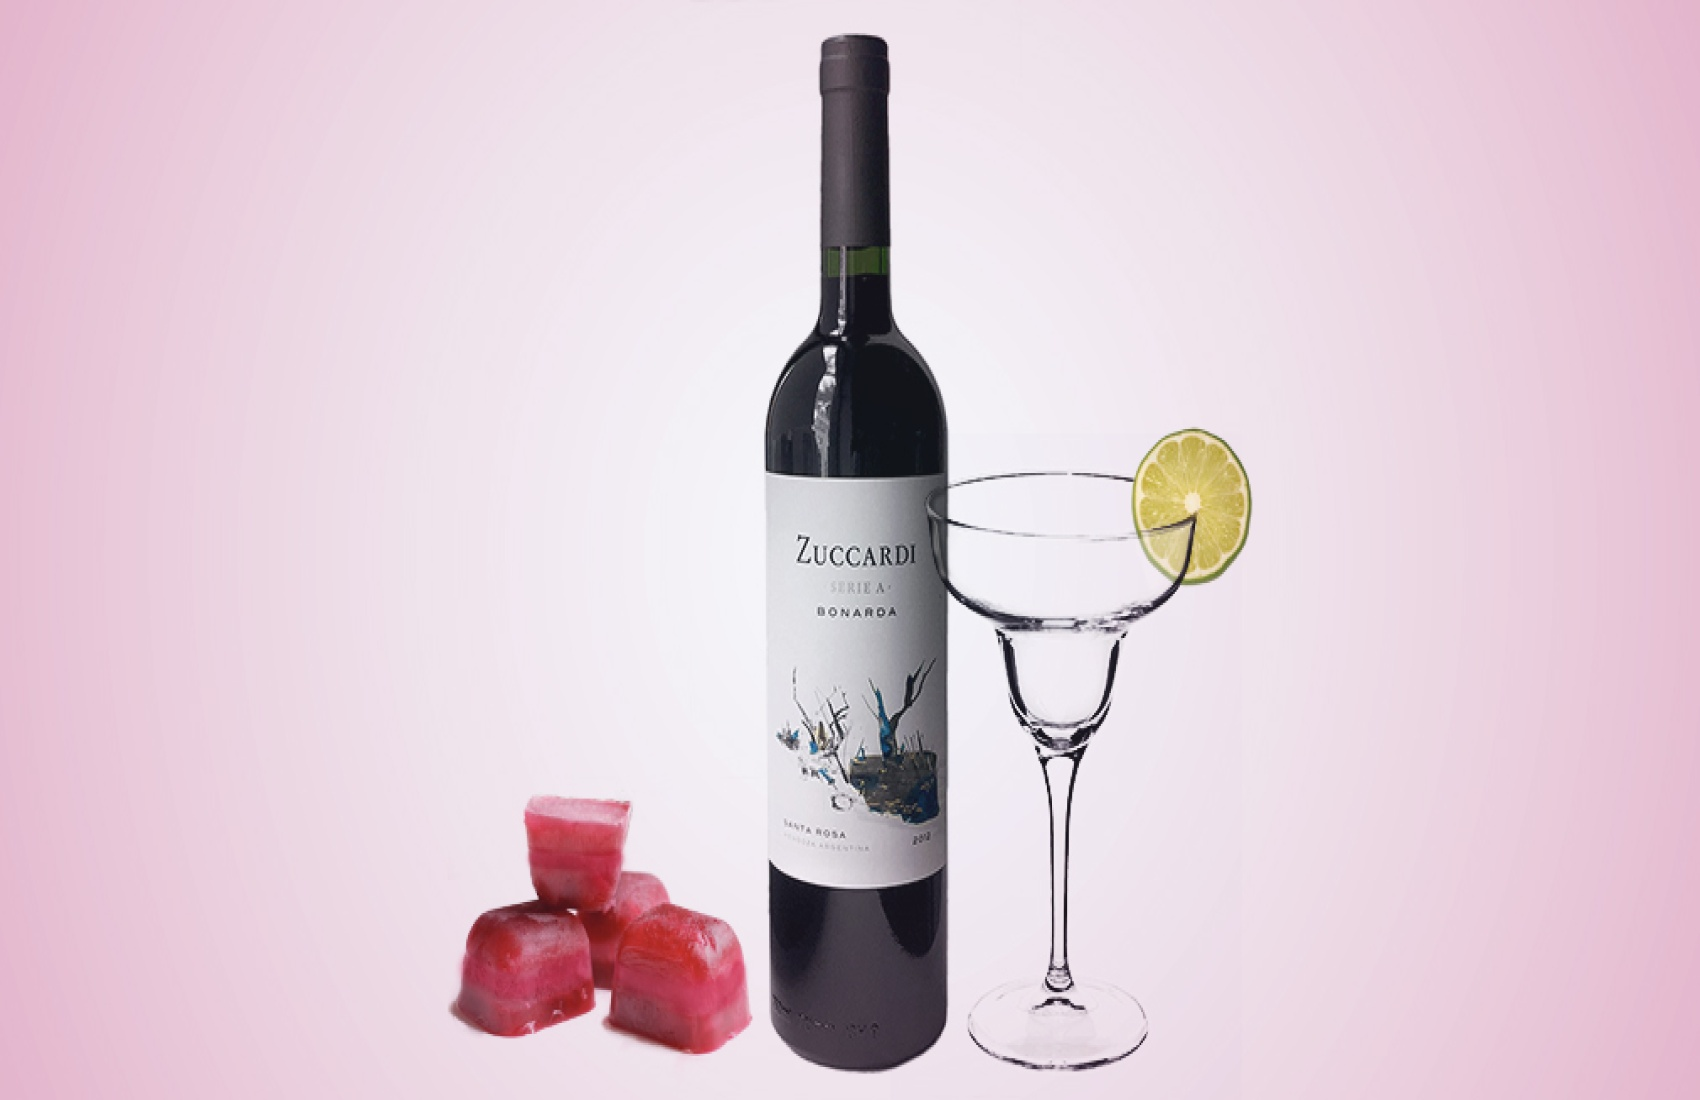wine: (756, 36, 952, 1067)
